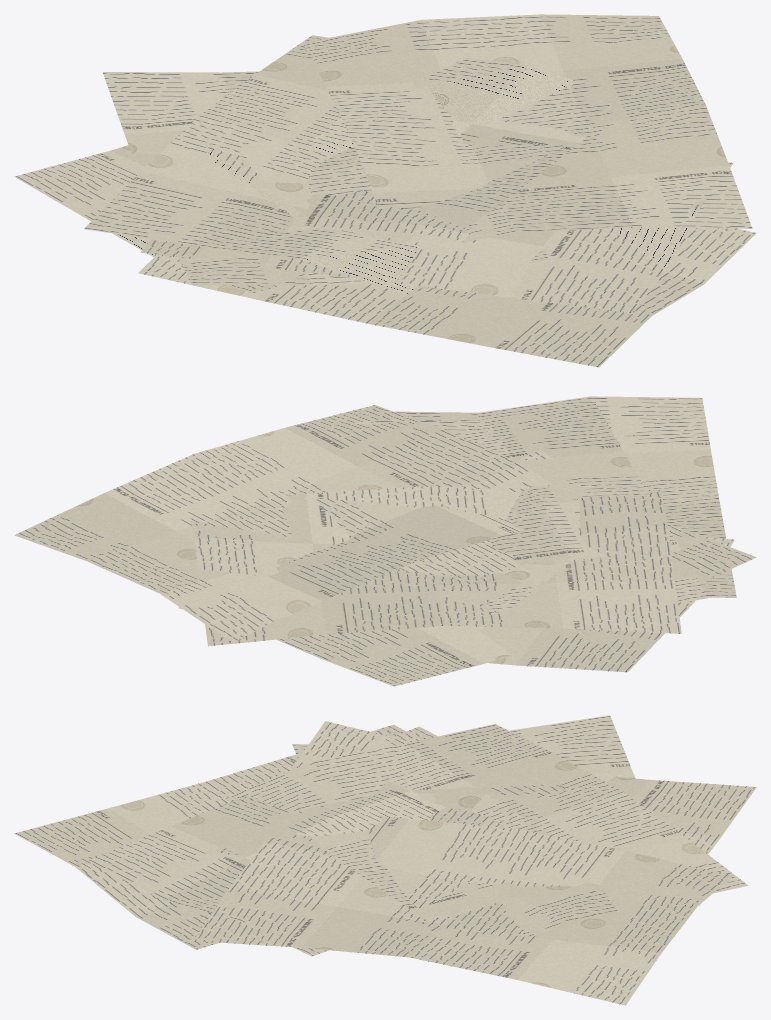
File: PRP_Paper_Pile_B.glb
3 renders of one model, top to bottom at view 1: azimuth 30°, elevation 25°; view 2: azimuth 150°, elevation 25°; view 3: azimuth 270°, elevation 25°, orthographic. The views are drawn at different scales.
Parts seen in each view (by area): view 1: Sheet5, Sheet4, Sheet3, Sheet0, Sheet2, Sheet1; view 2: Sheet5, Sheet4, Sheet3, Sheet2, Sheet0, Sheet1; view 3: Sheet5, Sheet4, Sheet3, Sheet0, Sheet2, Sheet1.
Part boxes in pixels (x1,y1,x2,y2): Sheet5: (303,14,752,243); Sheet4: (84,35,587,294); Sheet3: (140,148,733,313); Sheet0: (138,228,756,367); Sheet2: (102,71,548,285); Sheet1: (14,145,366,293); Sheet5: (14,405,552,641); Sheet4: (191,486,681,646); Sheet3: (351,403,707,614); Sheet2: (276,450,756,686); Sheet0: (394,396,736,597); Sheet1: (178,534,734,672); Sheet5: (193,816,733,1005); Sheet4: (225,724,748,939); Sheet3: (88,726,568,956); Sheet0: (14,724,405,949); Sheet2: (215,721,756,856); Sheet1: (292,715,700,905).
Bounding box in the file's own units: 0.875 × 0.0394 × 0.9615.
1 material, 1 textured.
